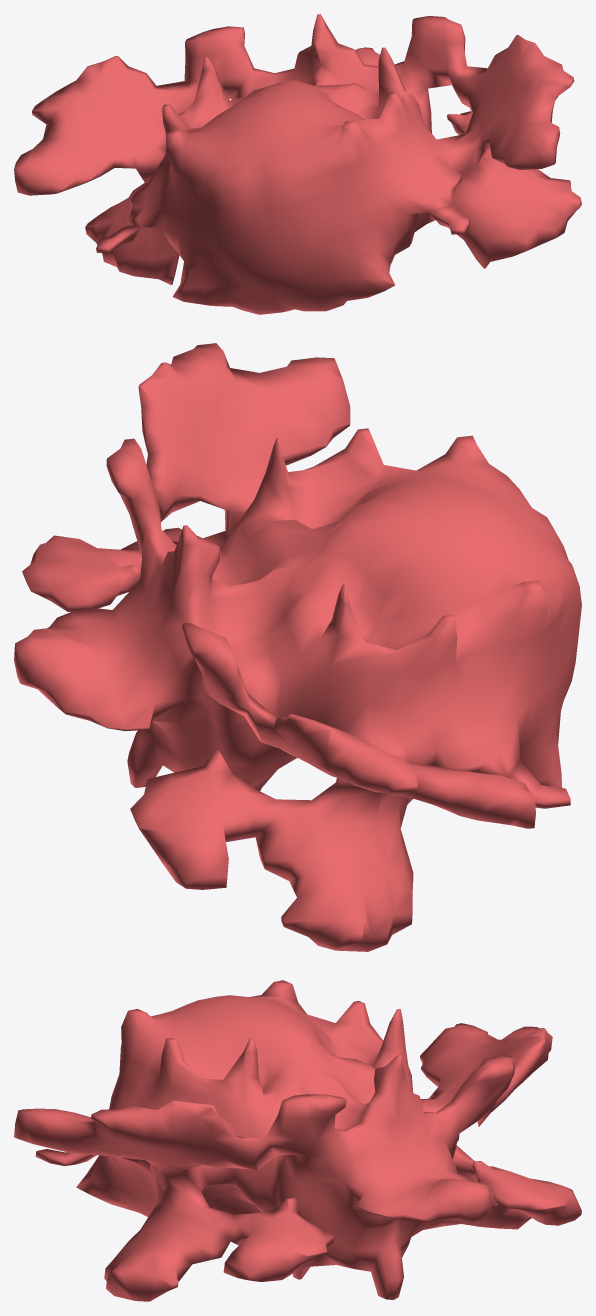
File: creature_4.glb
The picture shows the model from 3 angles, top to bottom: view 1: azimuth 30°, elevation 25°; view 2: azimuth 150°, elevation 25°; view 3: azimuth 270°, elevation 25°; orthographic projection. The views are drawn at different scales.
Visible parts, largest first — view 1: Sphere; view 2: Sphere; view 3: Sphere.
Boxes of the visible parts, x1,y1,x2,y2 form: Sphere: (14, 14, 581, 314); Sphere: (14, 343, 581, 951); Sphere: (14, 980, 581, 1301).
Bounding box in the file's own units: 5.5 × 2.93 × 5.3.
